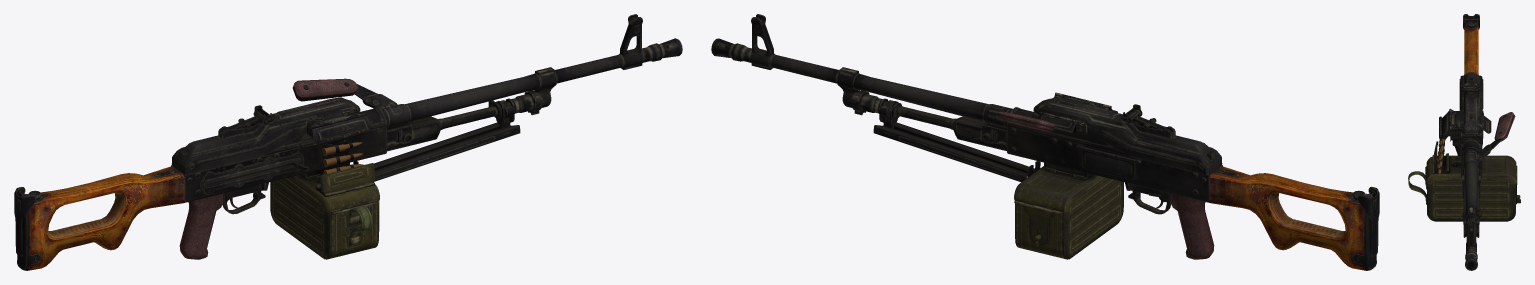
3 renders of one model, left to right at view 1: azimuth 30°, elevation 25°; view 2: azimuth 150°, elevation 25°; view 3: azimuth 270°, elevation 25°, orthographic. The views are drawn at different scales.
Parts seen in each view (by area): view 1: PKM; view 2: PKM; view 3: PKM.
Part boxes in pixels (x1,y1,x2,y2): PKM: [14, 14, 682, 270]; PKM: [711, 14, 1379, 270]; PKM: [1408, 14, 1520, 270].
Size of the model in its own units: 38.88 by 8.09 by 7.7.
Materials: 1 (1 with a texture image).
